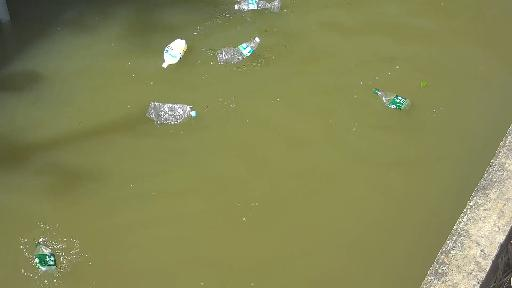leaf: (419, 78, 442, 93)
plastic: (132, 93, 227, 128), (202, 31, 278, 66), (20, 234, 72, 281), (148, 37, 205, 74), (365, 86, 423, 118), (220, 0, 289, 22)
